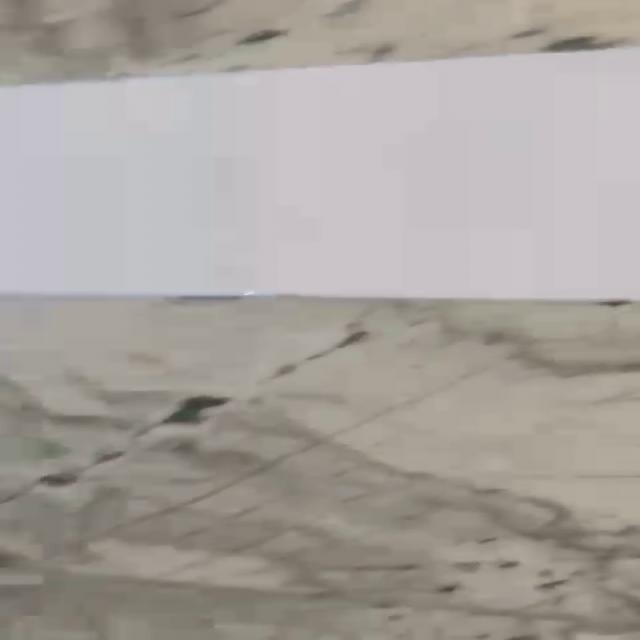road: (0, 45, 640, 301)
